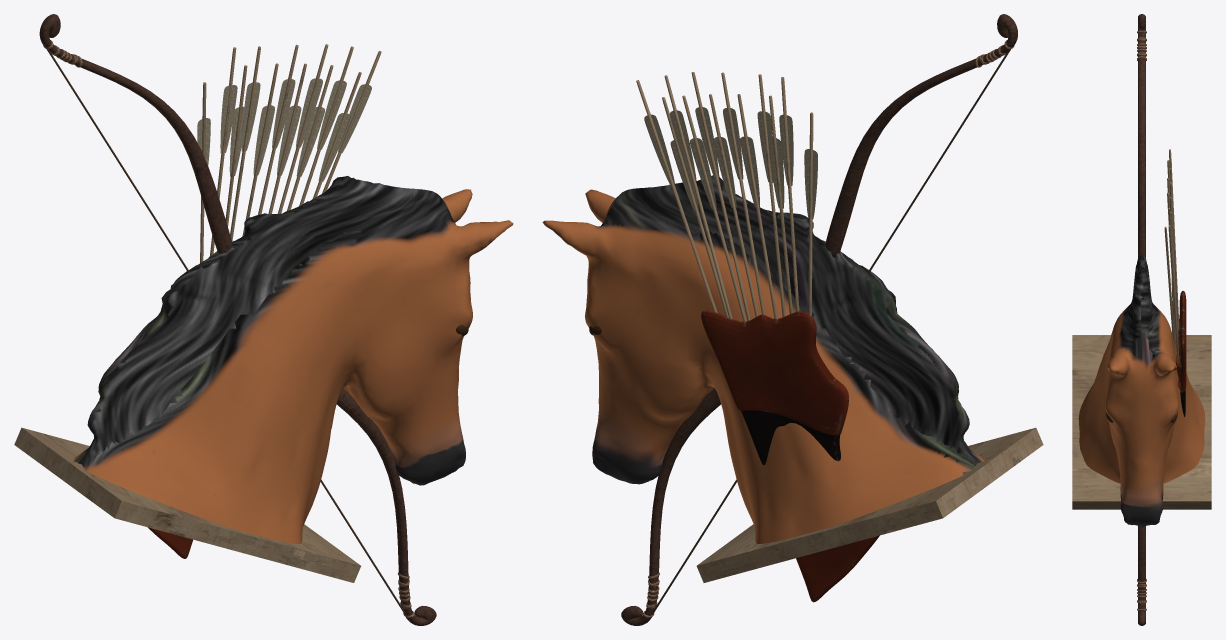
File: Ranged_Calvalry.fbx
3 renders of one model, left to right at view 1: azimuth 30°, elevation 25°; view 2: azimuth 150°, elevation 25°; view 3: azimuth 270°, elevation 25°, orthographic. The views are drawn at different scales.
Visible parts, largest first — view 1: Ranged Calvalry, Quiver & Arrows.001, Bow.001; view 2: Ranged Calvalry, Quiver & Arrows.001, Bow.001; view 3: Ranged Calvalry, Bow.001, Quiver & Arrows.001.
Part boxes in pixels (bbox=[...]): Ranged Calvalry: bbox=[14, 176, 513, 582]; Quiver & Arrows.001: bbox=[148, 44, 381, 558]; Bow.001: bbox=[39, 14, 436, 625]; Ranged Calvalry: bbox=[542, 175, 1043, 582]; Quiver & Arrows.001: bbox=[636, 72, 879, 602]; Bow.001: bbox=[621, 14, 1017, 625]; Ranged Calvalry: bbox=[1072, 255, 1211, 526]; Bow.001: bbox=[1137, 14, 1146, 625]; Quiver & Arrows.001: bbox=[1164, 149, 1186, 416].
Bounding box in the file's own units: 372 × 551 × 143.
